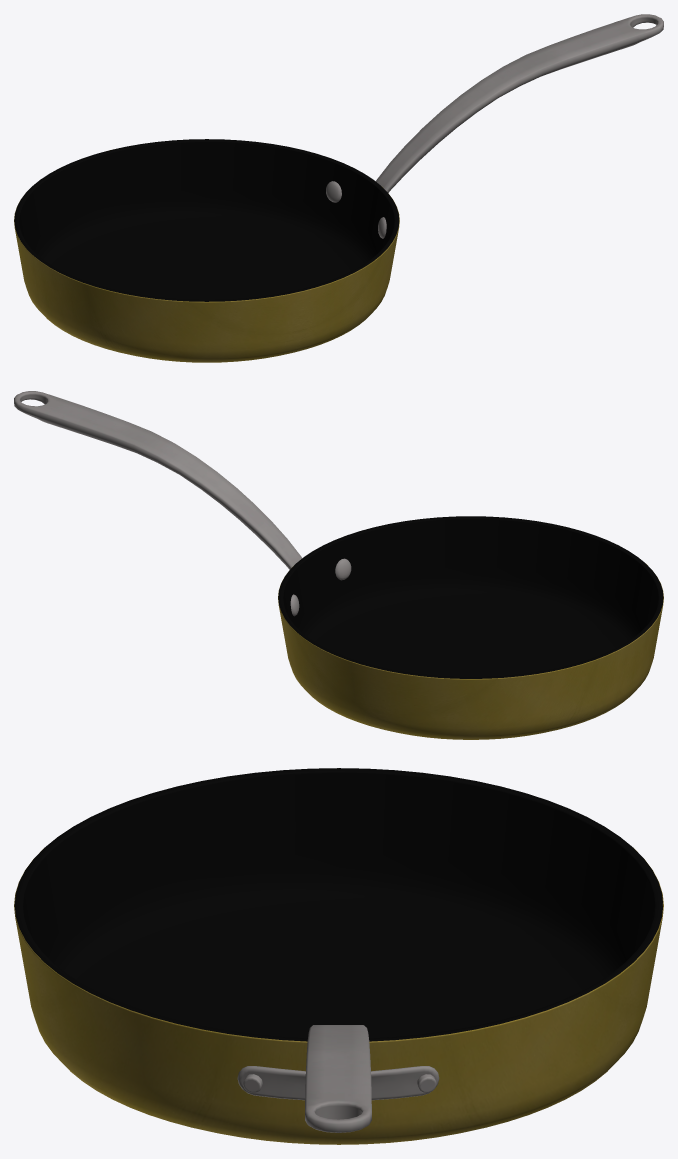
The model's file is padella2.glb.
The picture shows the model from 3 angles, top to bottom: view 1: azimuth 30°, elevation 25°; view 2: azimuth 150°, elevation 25°; view 3: azimuth 270°, elevation 25°; orthographic projection. The views are drawn at different scales.
Parts seen in each view (by area): view 1: contemporary_cookware_frying_pan_YBK2_FQ; view 2: contemporary_cookware_frying_pan_YBK2_FQ; view 3: contemporary_cookware_frying_pan_YBK2_FQ.
Part boxes in pixels (<box>): contemporary_cookware_frying_pan_YBK2_FQ: <box>14,14,663,362</box>; contemporary_cookware_frying_pan_YBK2_FQ: <box>14,391,663,739</box>; contemporary_cookware_frying_pan_YBK2_FQ: <box>14,768,663,1144</box>.
Bounding box in the file's own units: 59.34 × 15.05 × 31.91.
2 materials, 2 textured.
